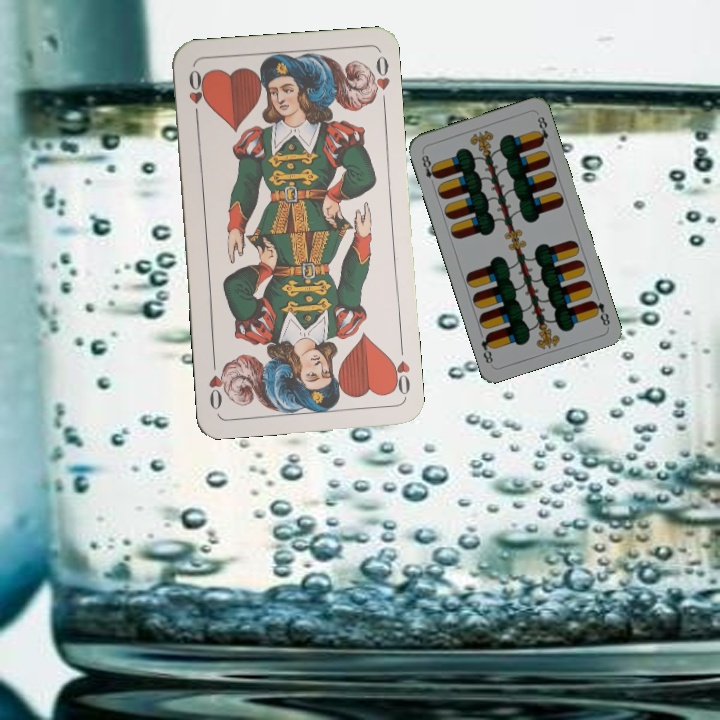E8: (417, 148, 441, 188), (587, 296, 613, 329)
HO: (386, 340, 413, 399), (184, 65, 208, 124)
